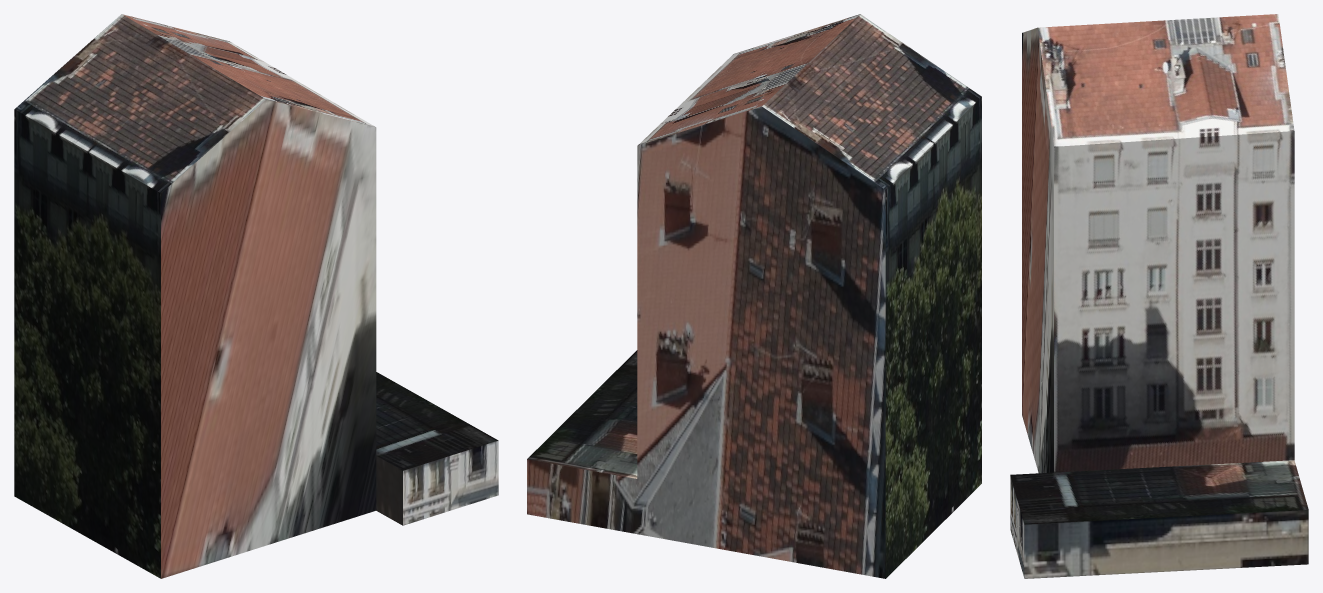
3 renders of one model, left to right at view 1: azimuth 30°, elevation 25°; view 2: azimuth 150°, elevation 25°; view 3: azimuth 270°, elevation 25°, orthographic.
Parts seen in each view (by area): view 1: Z_UP; view 2: Z_UP; view 3: Z_UP.
Part boxes in pixels (left/top/right/bottom): Z_UP: left=14, top=14, right=498, bottom=578; Z_UP: left=527, top=14, right=981, bottom=578; Z_UP: left=1010, top=14, right=1308, bottom=578.
Size of the model in its own units: 23.84 by 28.05 by 17.07.
2 materials, 1 textured.
